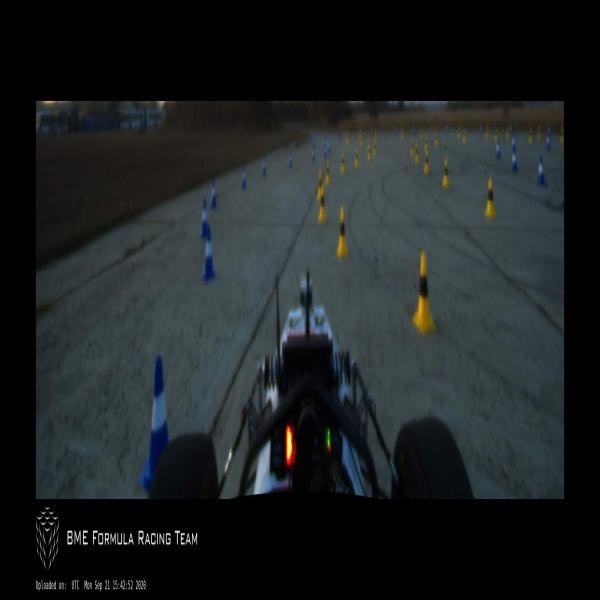blue_cone: (140, 357, 174, 490), (202, 228, 216, 280), (536, 154, 547, 186), (200, 200, 208, 237), (210, 179, 217, 208), (511, 146, 518, 172), (241, 166, 246, 189), (262, 158, 266, 178), (496, 140, 500, 160), (289, 151, 293, 169), (312, 147, 315, 162), (324, 144, 327, 159), (328, 140, 331, 154)
yellow_cone: (412, 252, 436, 332), (337, 208, 348, 255), (485, 177, 496, 218), (318, 186, 326, 222), (443, 158, 450, 188), (317, 172, 322, 199), (424, 152, 430, 173), (325, 161, 330, 184), (414, 143, 419, 163), (341, 153, 345, 173), (355, 148, 359, 167), (367, 144, 371, 162), (410, 139, 414, 157), (373, 140, 376, 156)
